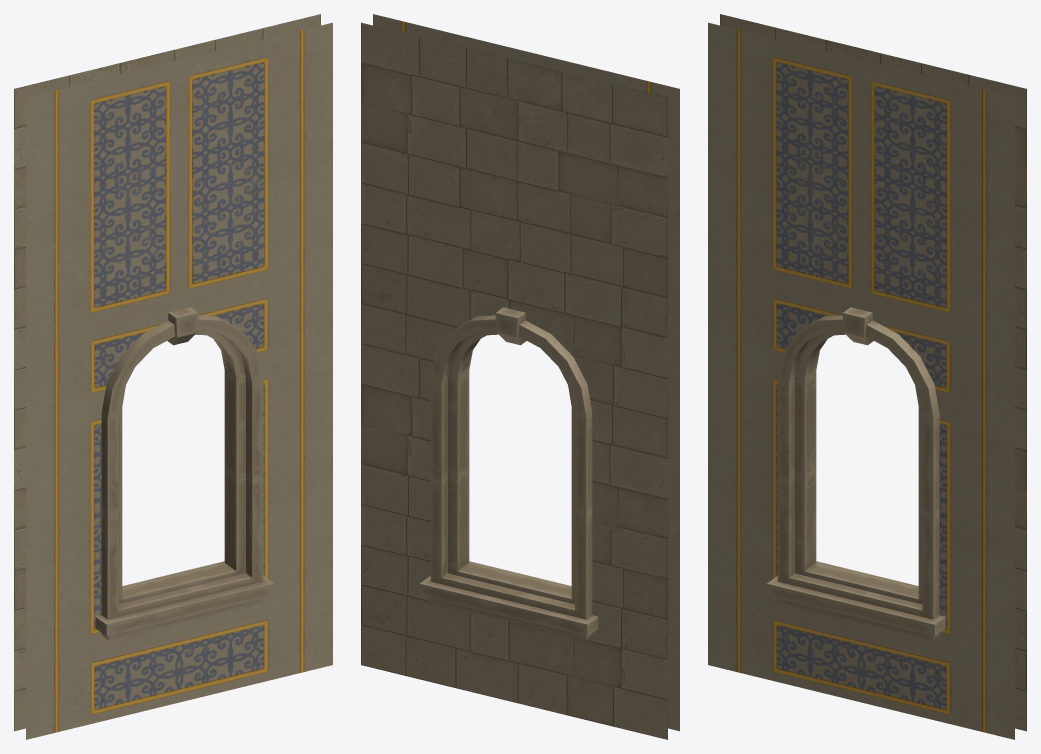
The model's file is ARC0510024.fbx.
The picture shows the model from 3 angles, left to right: view 1: azimuth 30°, elevation 25°; view 2: azimuth 150°, elevation 25°; view 3: azimuth 330°, elevation 25°; orthographic projection.
Parts seen in each view (by area): view 1: smARC0510024; view 2: smARC0510024; view 3: smARC0510024.
Part boxes in pixels (box(x1,y1,x2,y2)): smARC0510024: box(14, 14, 332, 739); smARC0510024: box(361, 14, 679, 739); smARC0510024: box(708, 14, 1026, 739).
Size of the model in its own units: 300 by 600 by 57.08.
1 material, 1 textured.
